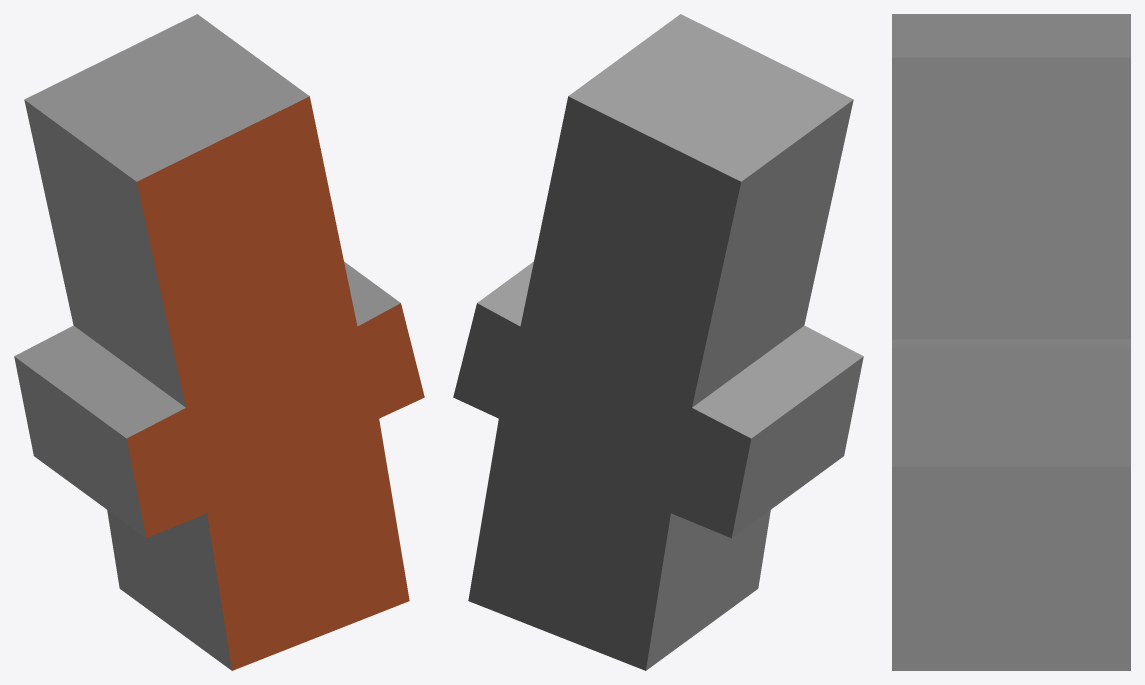
Rendered from construction_5417_assumed_A_Casa_h6m.obj.
3 views of the same model, side by side, from view 1: azimuth 30°, elevation 25°; view 2: azimuth 150°, elevation 25°; view 3: azimuth 270°, elevation 25° (orthographic). The views are drawn at different scales.
Parts seen in each view (by area): view 1: construction_5417_assumed_A_Casa; view 2: construction_5417_assumed_A_Casa; view 3: construction_5417_assumed_A_Casa.
Part boxes in pixels (box(x1,y1,x2,y2)): construction_5417_assumed_A_Casa: box(14, 14, 424, 670); construction_5417_assumed_A_Casa: box(453, 14, 863, 670); construction_5417_assumed_A_Casa: box(892, 14, 1130, 670).
Size of the model in its own units: 9.19 by 16.36 by 6.
